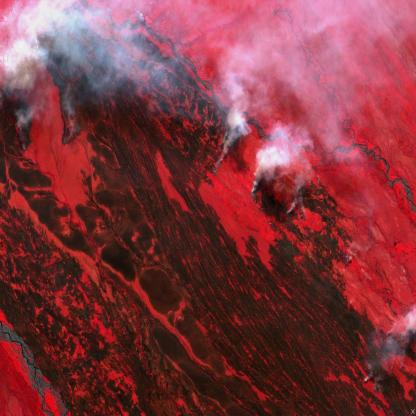fire: (245, 169, 360, 276), (355, 309, 416, 416), (0, 66, 39, 159), (33, 0, 97, 49), (202, 114, 242, 179), (55, 113, 80, 151)
